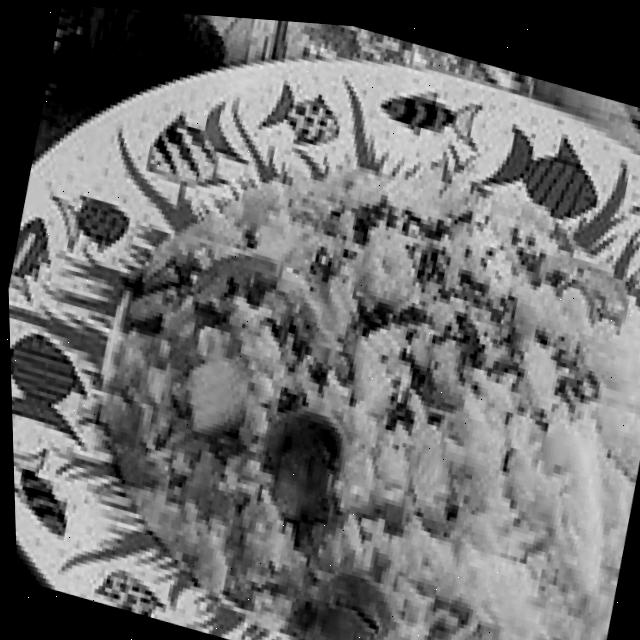米饭主食: (1, 32, 640, 640)
